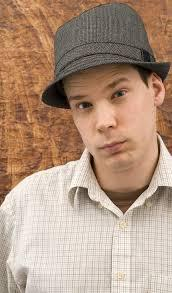cap: (33, 2, 172, 112)
